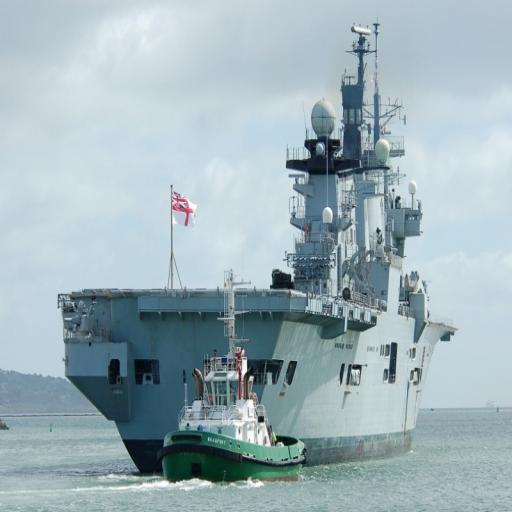Portanaves: (60, 12, 458, 482)
